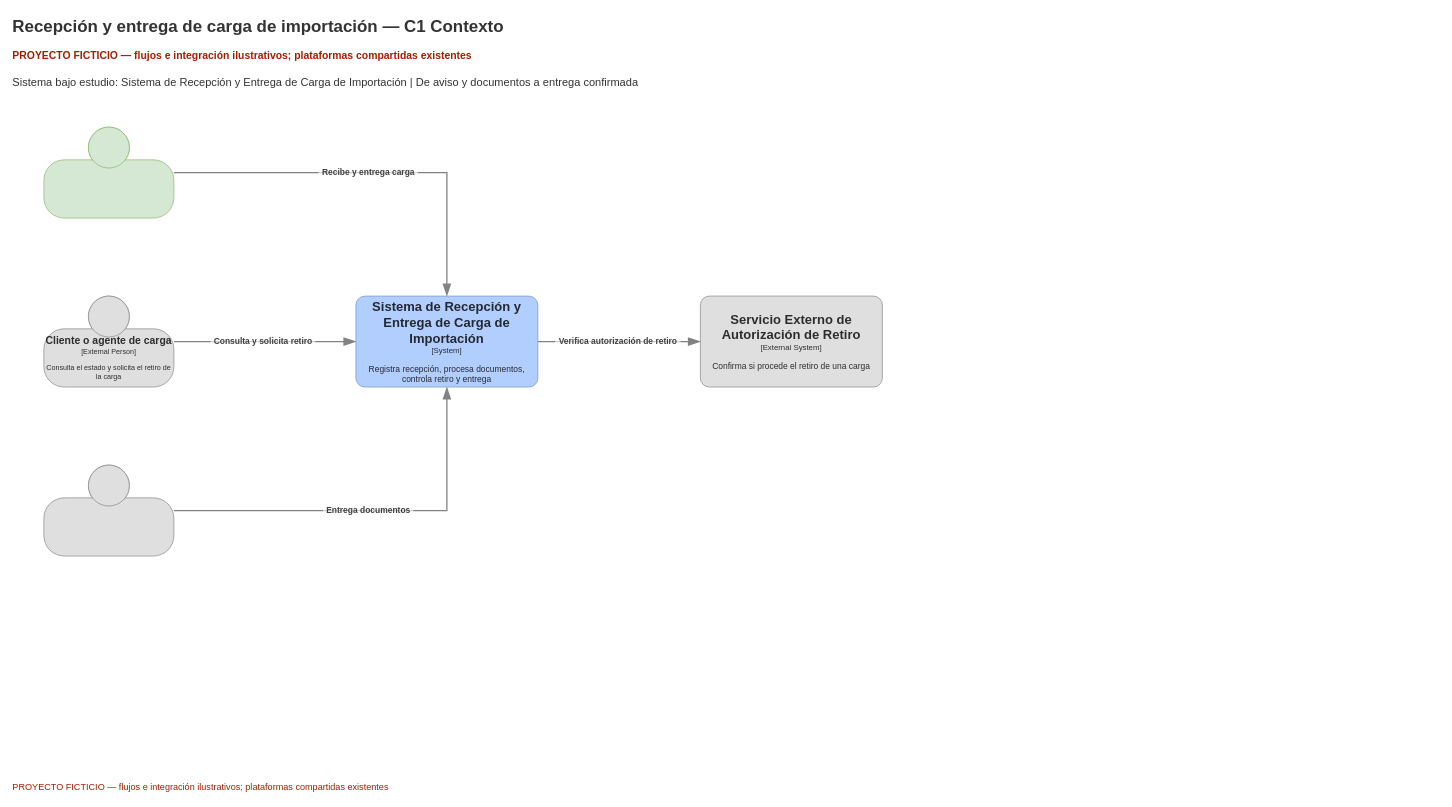
Image size: 1452x807. Some labels were removed from this diagram. Each missing label, with the box of its shape:
Aerolínea [External Person] Remite información y documentos de la carga: (43, 464, 174, 556)
Operador de carga [Person] Registra recepción, ubicación y entrega de la carga: (43, 126, 174, 218)
